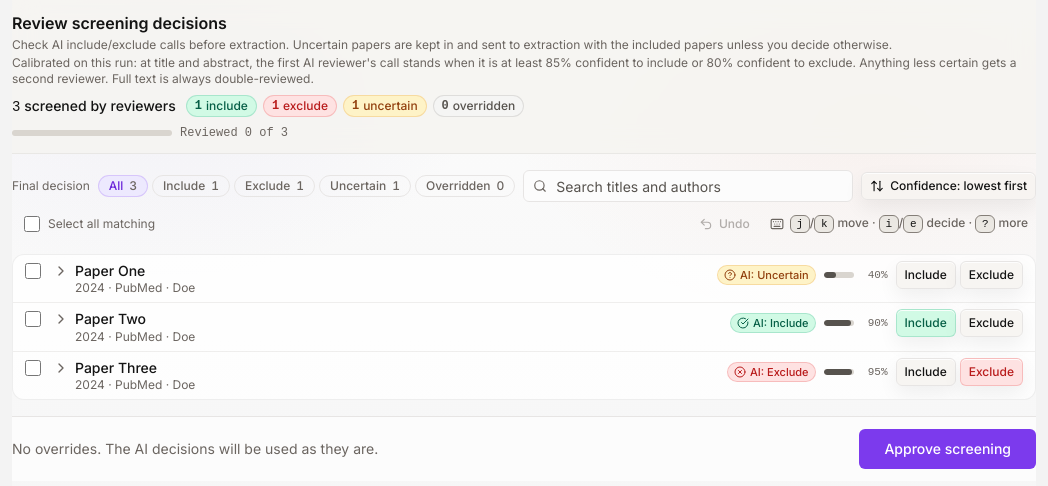
Test case: ScreeningReviewView › applies bulk actions to the selection
What coordinates should you click on to do the following:
click the checkbox labelled "Select all matching"
I would click on:
 (32, 224)
Its box is [24,216,40,232].
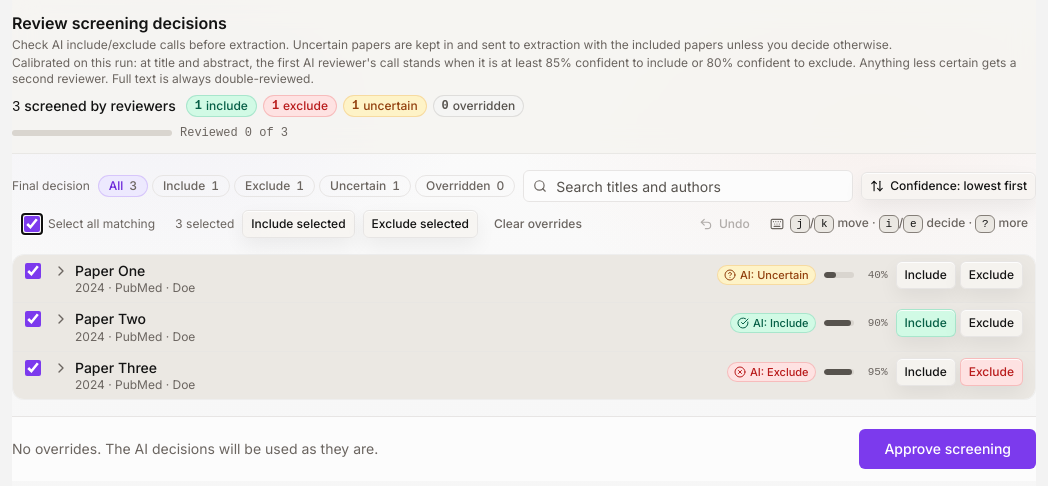
What coordinates should you click on to do the following:
click the button "Exclude selected"
I would click on:
 (420, 224)
Its box is [363,210,478,238].
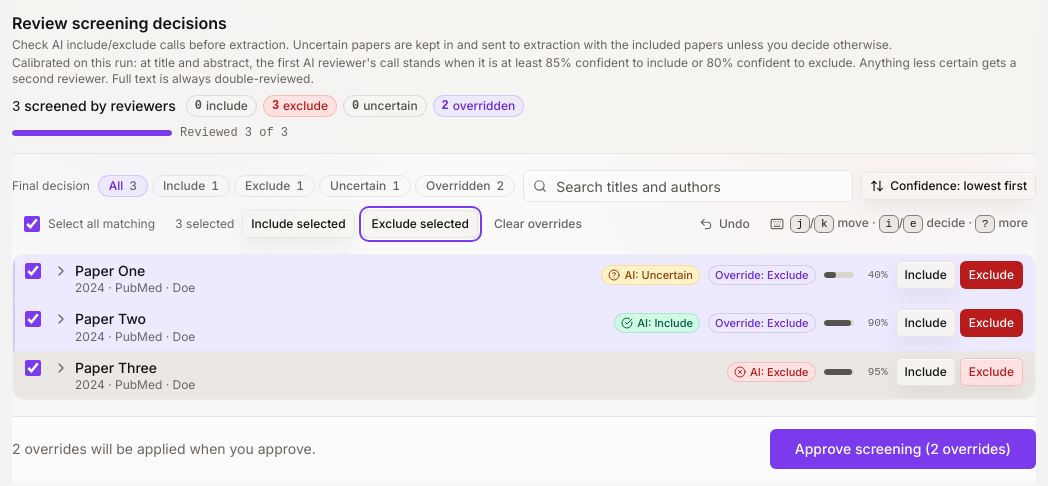
expect the text "Override: Exclude" is shown 2 times: met, box [708,265,816,285]; [708,313,816,333]
What coordinates should you click on to do the following:
click the button "Clear overrides"
I would click on:
 (538, 224)
Its box is [486,210,590,238].
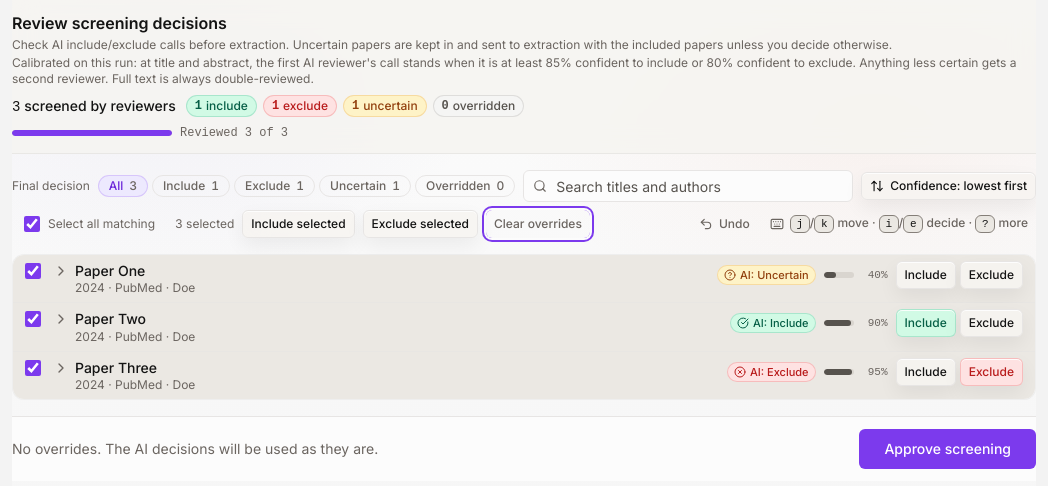
expect the text "Override:" is gone: met
